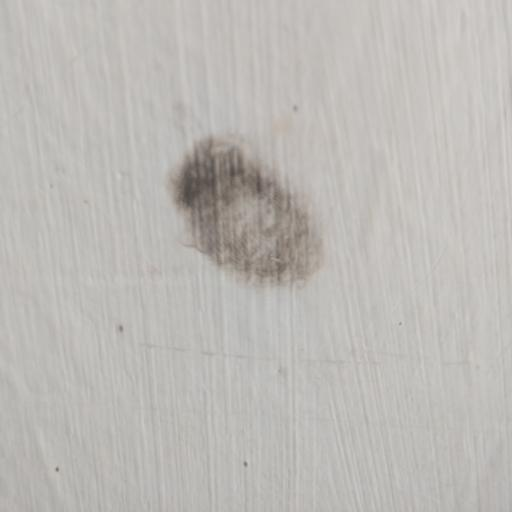stain: (146, 100, 366, 346)
